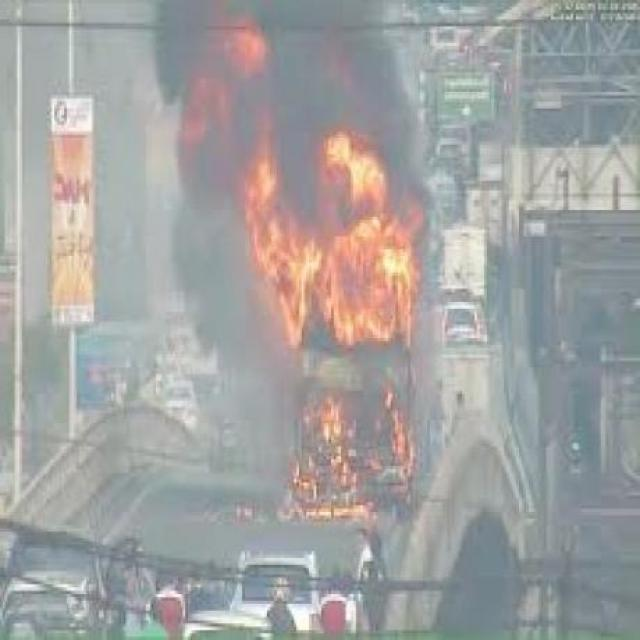Fire: (258, 146, 424, 354), (300, 386, 414, 522)
Smoke: (142, 0, 456, 142), (162, 144, 248, 366)
